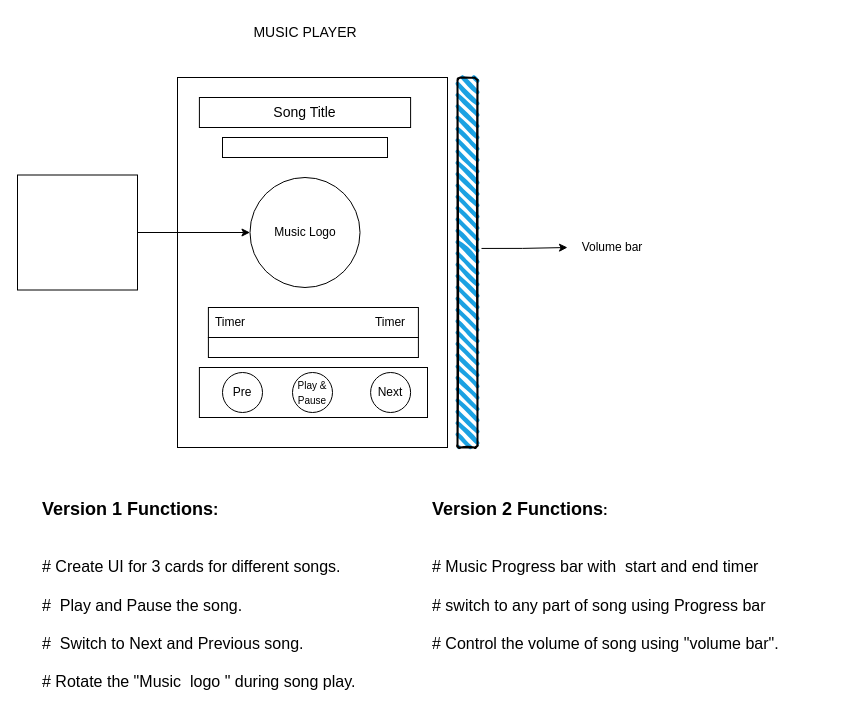
Some shapes in this 847 by 724 pixel diagram are drawn without their labels. Here are the shapes that lost their labels. From the top down, the box of each, then its label:
(222, 136, 388, 158): Singer Name
(16, 174, 138, 290): Rotate the logo during music play. & Stop the rotation while music stop
(207, 336, 418, 358): Music Progress bar
